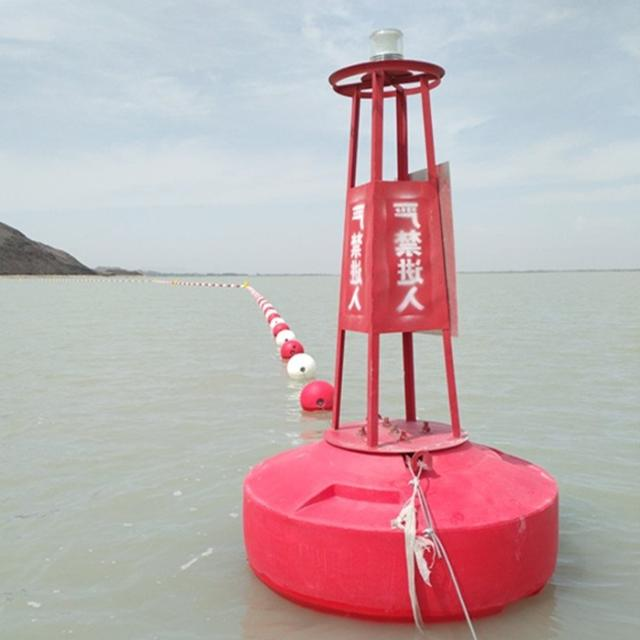buoy: (252, 26, 556, 618)
